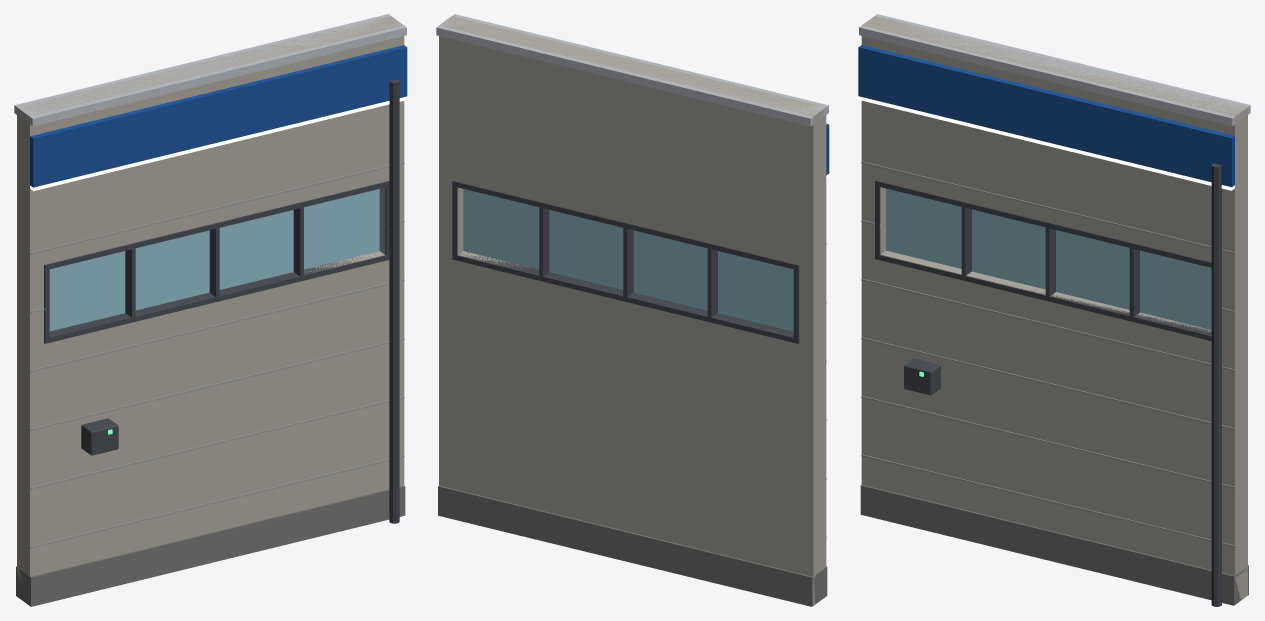
The model's file is Bay_Wall_Module.glb.
The picture shows the model from 3 angles, left to right: view 1: azimuth 30°, elevation 25°; view 2: azimuth 150°, elevation 25°; view 3: azimuth 330°, elevation 25°; orthographic projection.
Visible parts, largest first — view 1: Bay_Wall_Module; view 2: Bay_Wall_Module; view 3: Bay_Wall_Module.
Boxes of the visible parts, x1,y1,x2,y2 form: Bay_Wall_Module: [14, 14, 407, 606]; Bay_Wall_Module: [436, 14, 829, 606]; Bay_Wall_Module: [858, 14, 1250, 606].
Bounding box in the file's own units: 4 × 5 × 0.485.
Materials: 1 (1 with a texture image).
